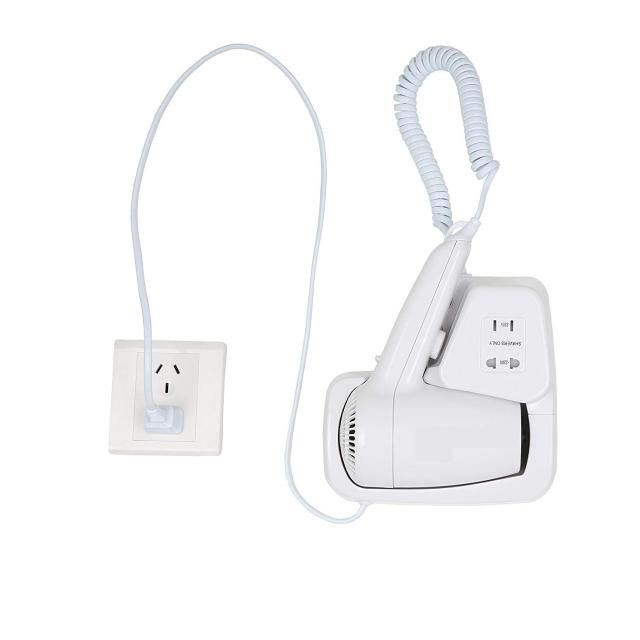dryer: (67, 30, 580, 554), (306, 41, 569, 523), (328, 214, 559, 510)
